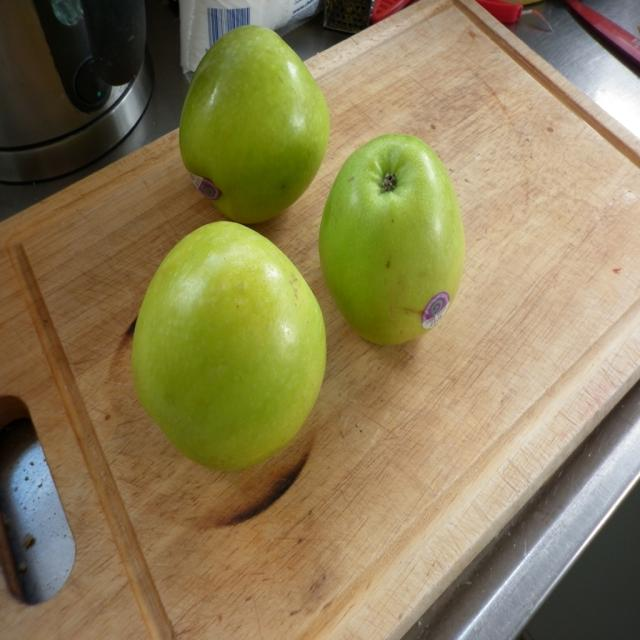Healty Apple: (128, 220, 324, 477), (318, 132, 466, 346), (175, 22, 328, 225)
